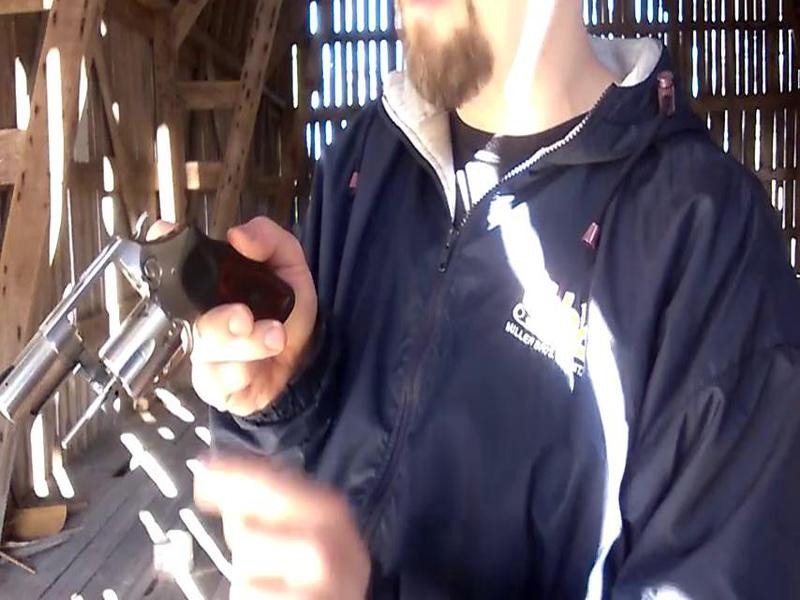Revolver: (7, 209, 281, 462)
